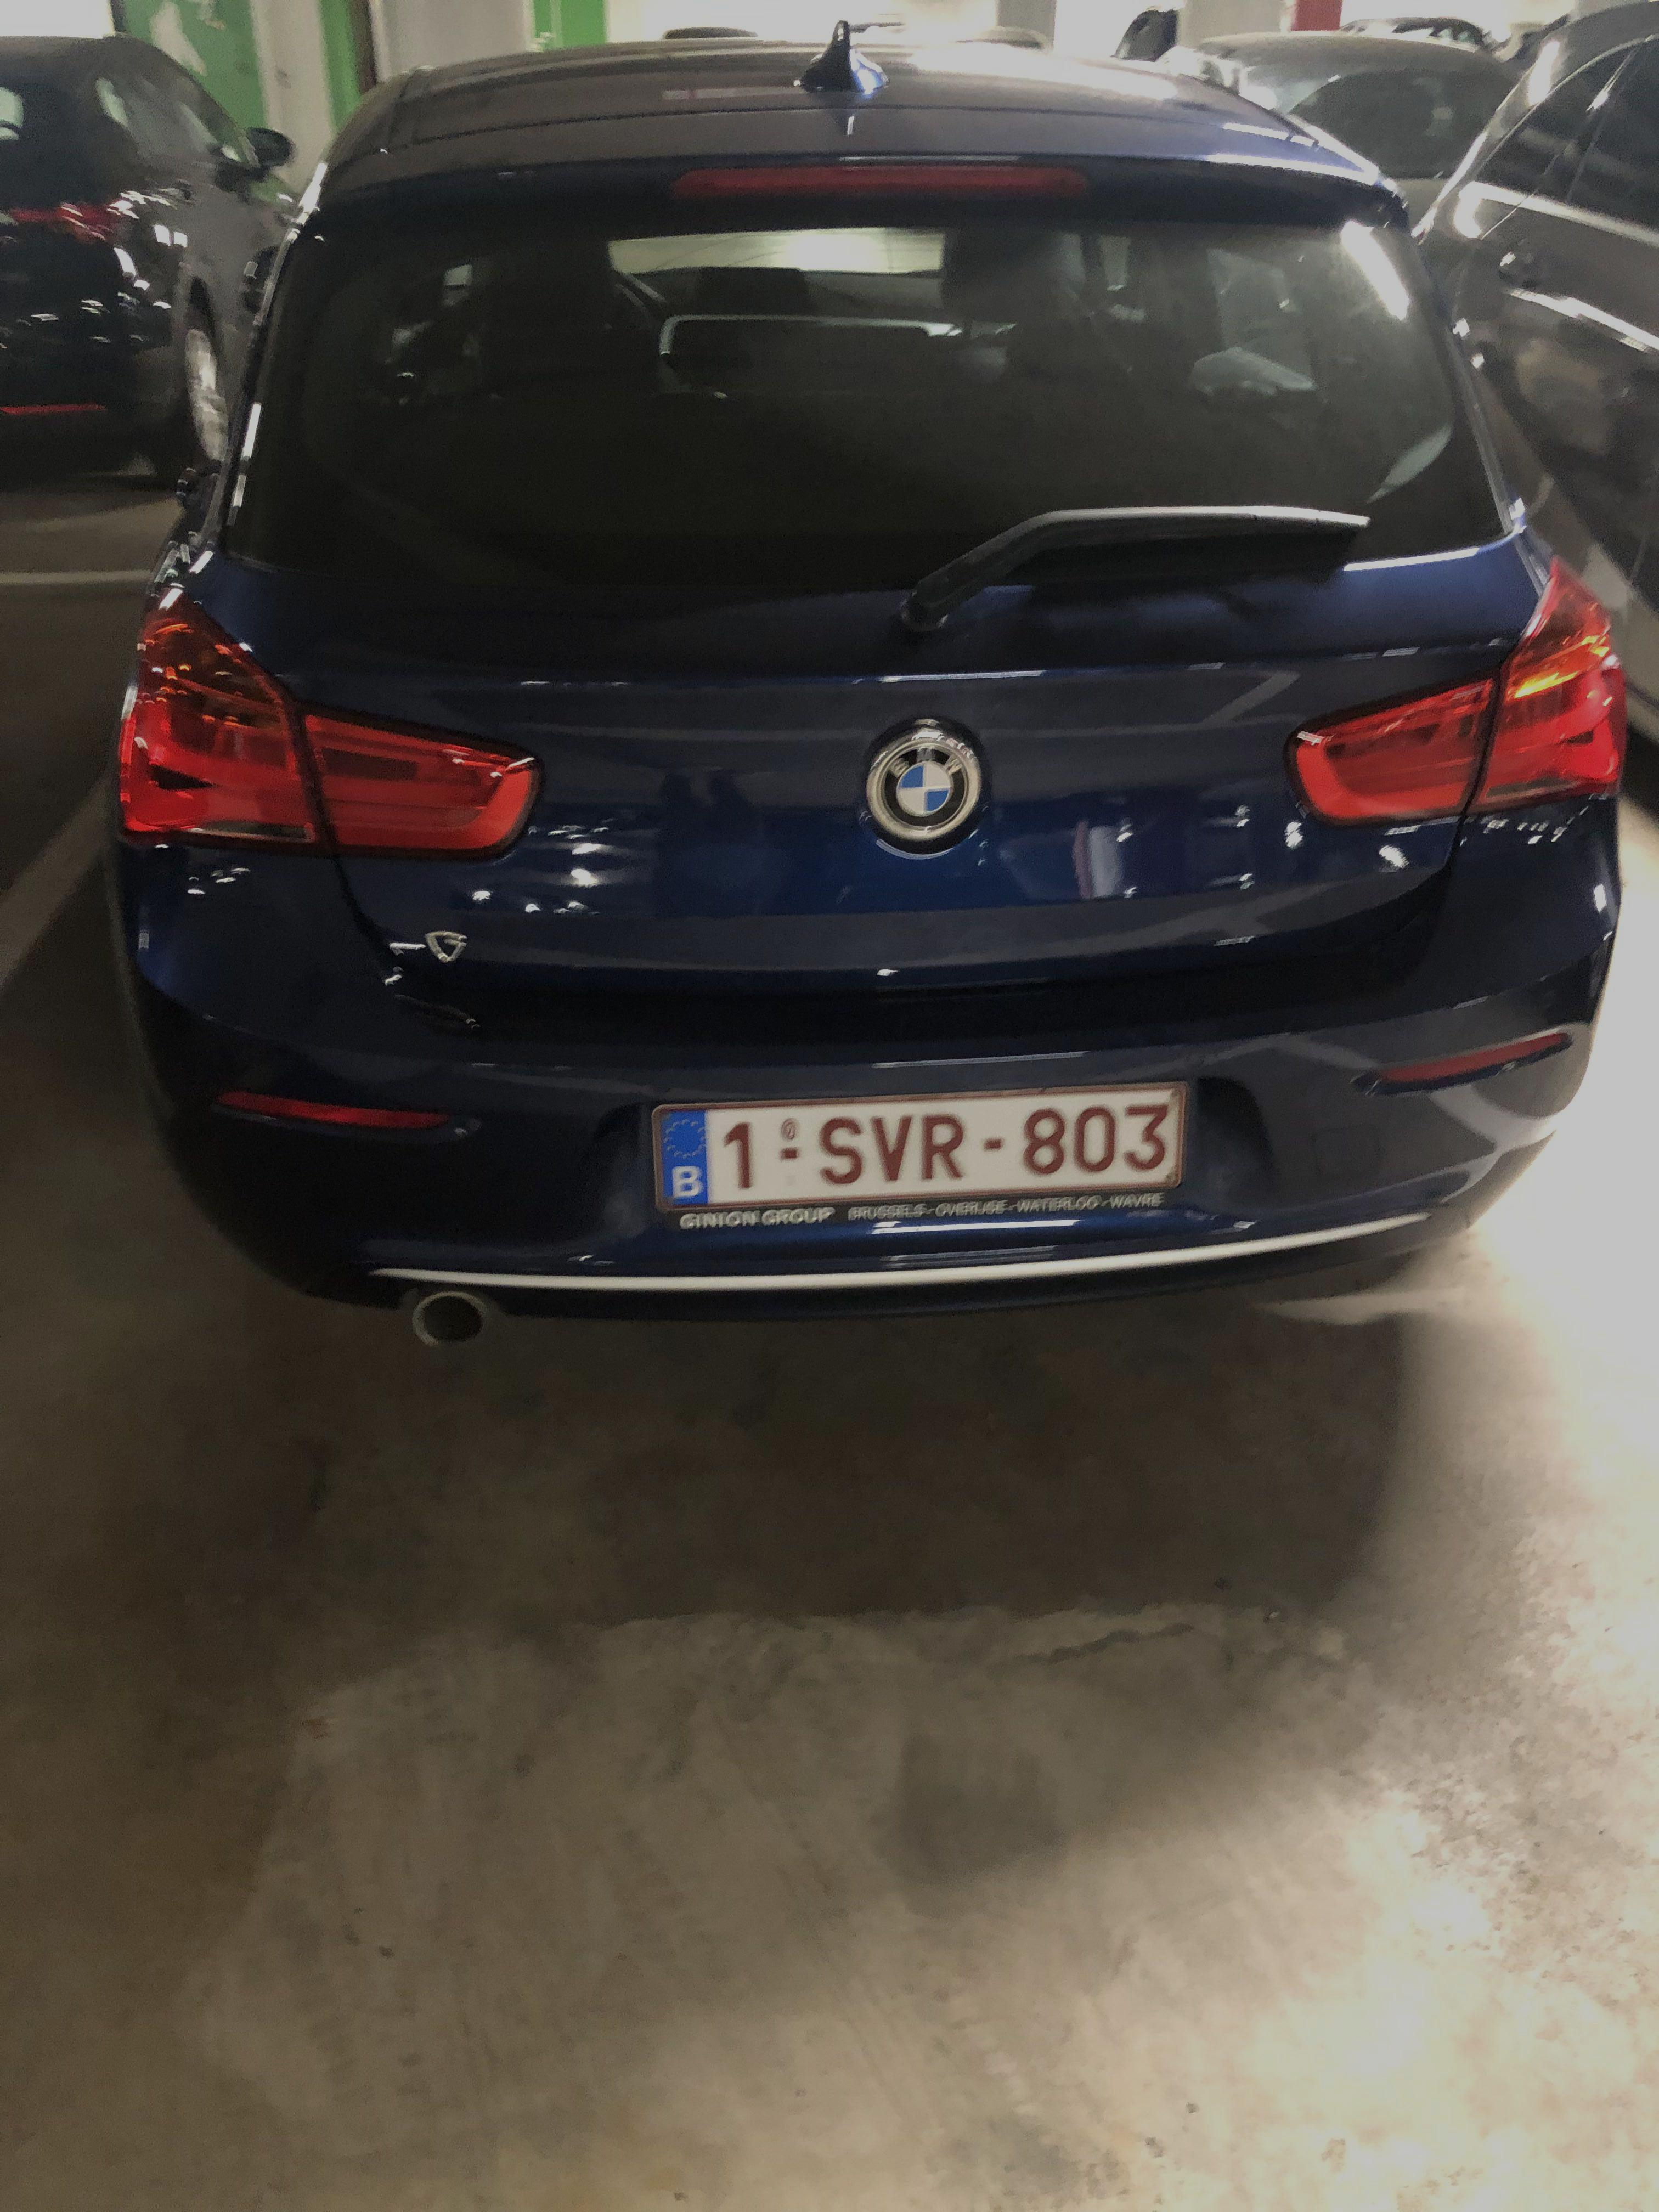plate: (645, 1073, 1212, 1237)
